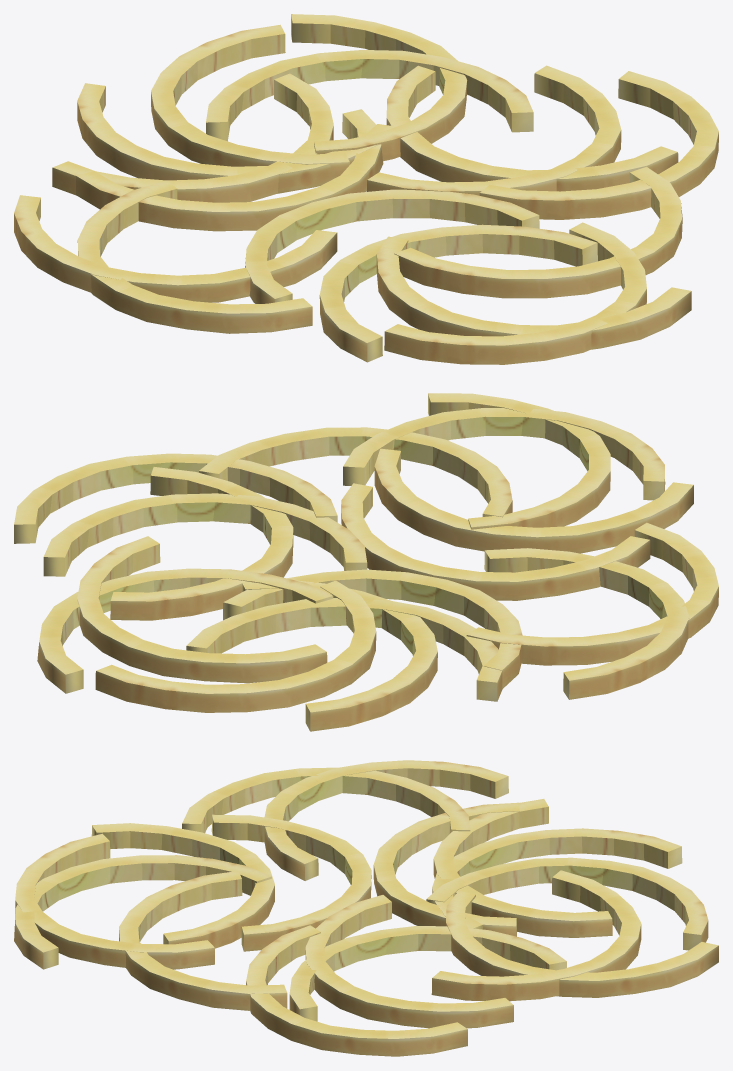
File: sogan_sandwich.fbx
The picture shows the model from 3 angles, top to bottom: view 1: azimuth 30°, elevation 25°; view 2: azimuth 150°, elevation 25°; view 3: azimuth 270°, elevation 25°; orthographic projection. The views are drawn at different scales.
Parts seen in each view (by area): view 1: sogan_sandwich; view 2: sogan_sandwich; view 3: sogan_sandwich.
Part boxes in pixels (left/top/right/bottom): sogan_sandwich: left=14, top=14, right=718, bottom=364; sogan_sandwich: left=14, top=393, right=718, bottom=731; sogan_sandwich: left=14, top=760, right=718, bottom=1056.
Bounding box in the file's own units: 32.98 × 1.07 × 35.25.
